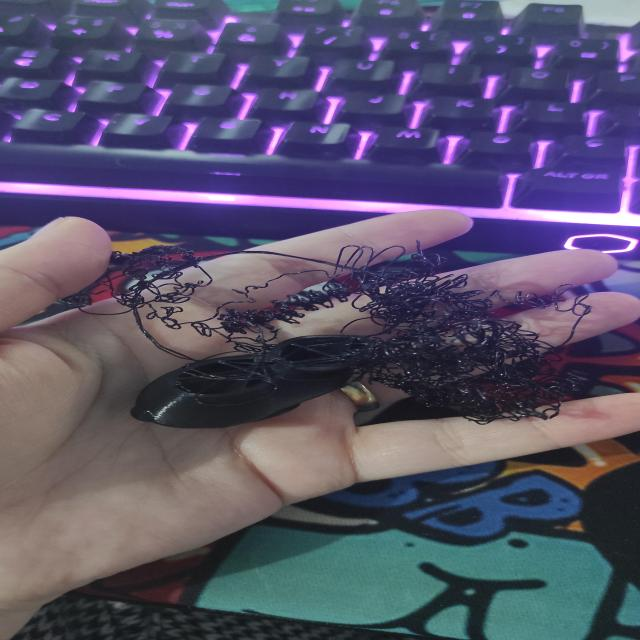Spaghetti: (72, 246, 596, 428)
